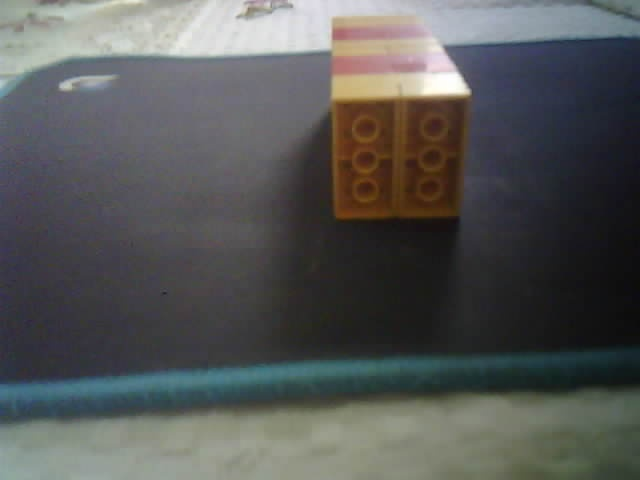lego: (327, 13, 474, 225)
